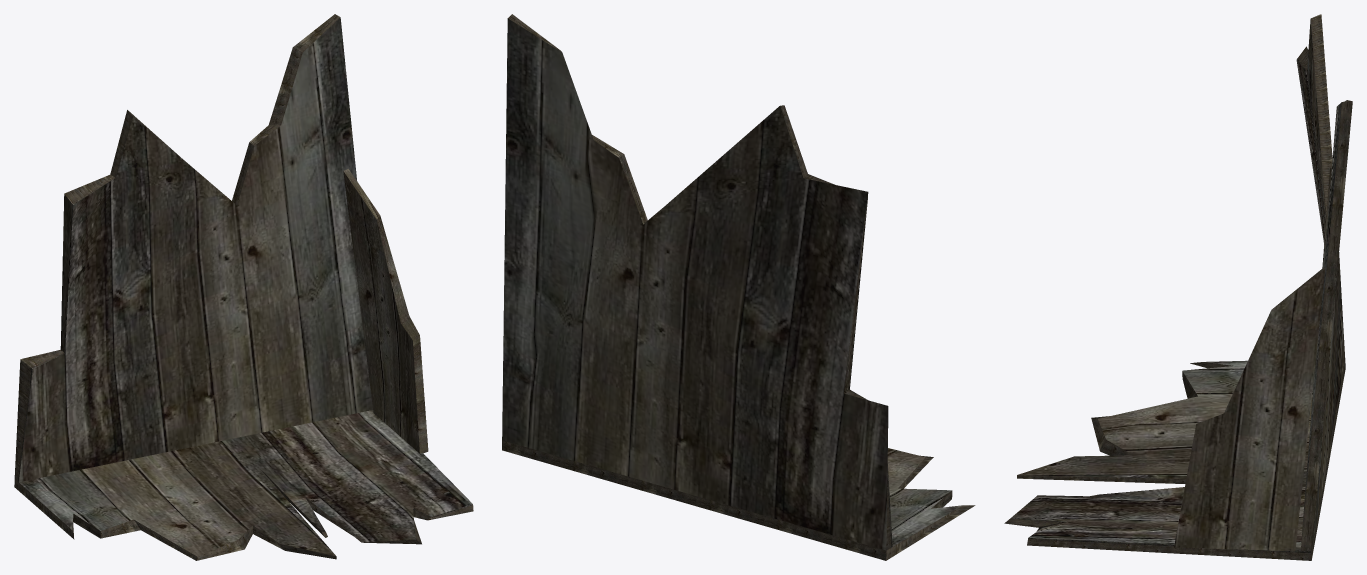
Rendered from prop_destroyedcratecorner02.glb.
3 views of the same model, side by side, from view 1: azimuth 30°, elevation 25°; view 2: azimuth 150°, elevation 25°; view 3: azimuth 270°, elevation 25° (orthographic). The views are drawn at different scales.
Size of the model in its own units: 15.85 by 17.41 by 11.81.
Materials: 1 (1 with a texture image).
